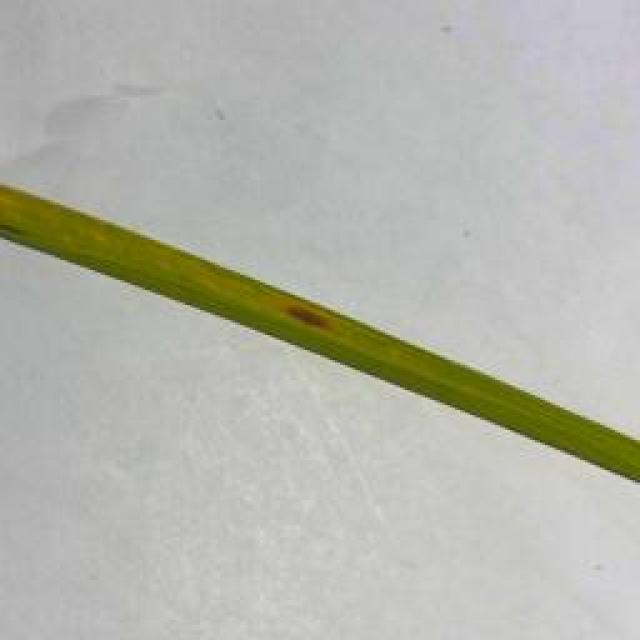Brown_Spot: (282, 297, 339, 339)
